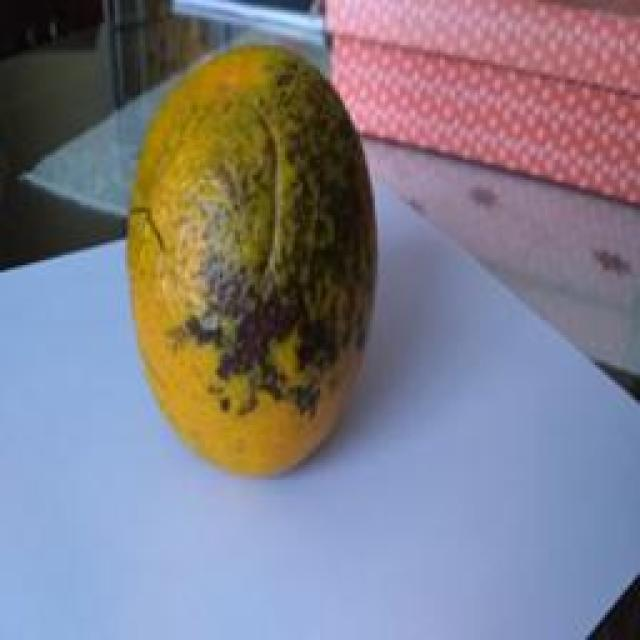Rotten_Orange: (108, 9, 410, 510)
